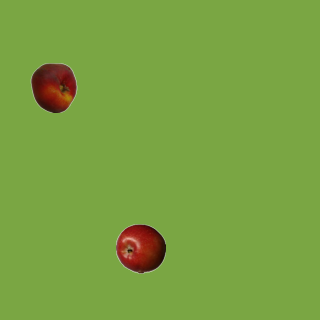Apple Braeburn: (115, 223, 165, 273)
Nectarine Flat: (28, 62, 78, 112)
